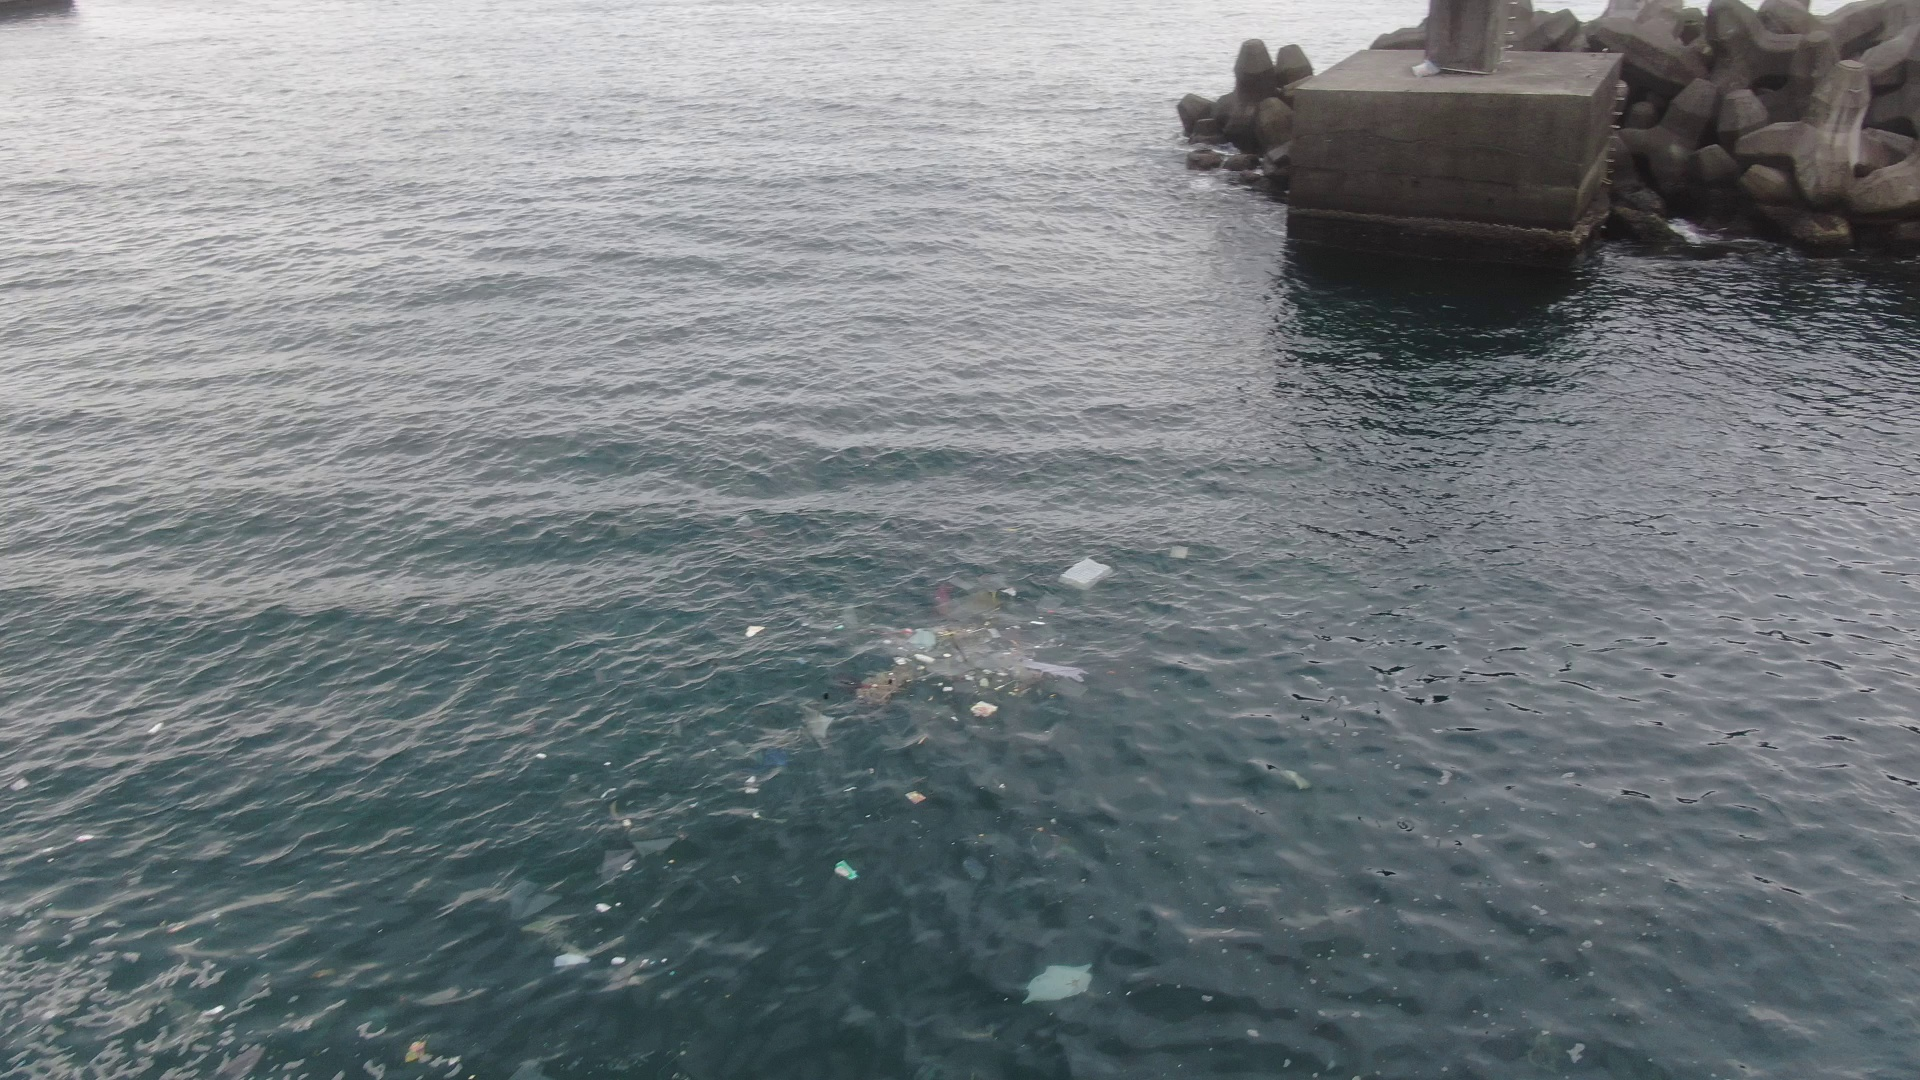garbage: (882, 585, 1083, 713), (1027, 963, 1092, 1005), (1064, 554, 1112, 592), (800, 707, 833, 744), (404, 1036, 426, 1062), (833, 860, 860, 881), (902, 789, 924, 806), (1171, 543, 1188, 560), (746, 626, 767, 636)
